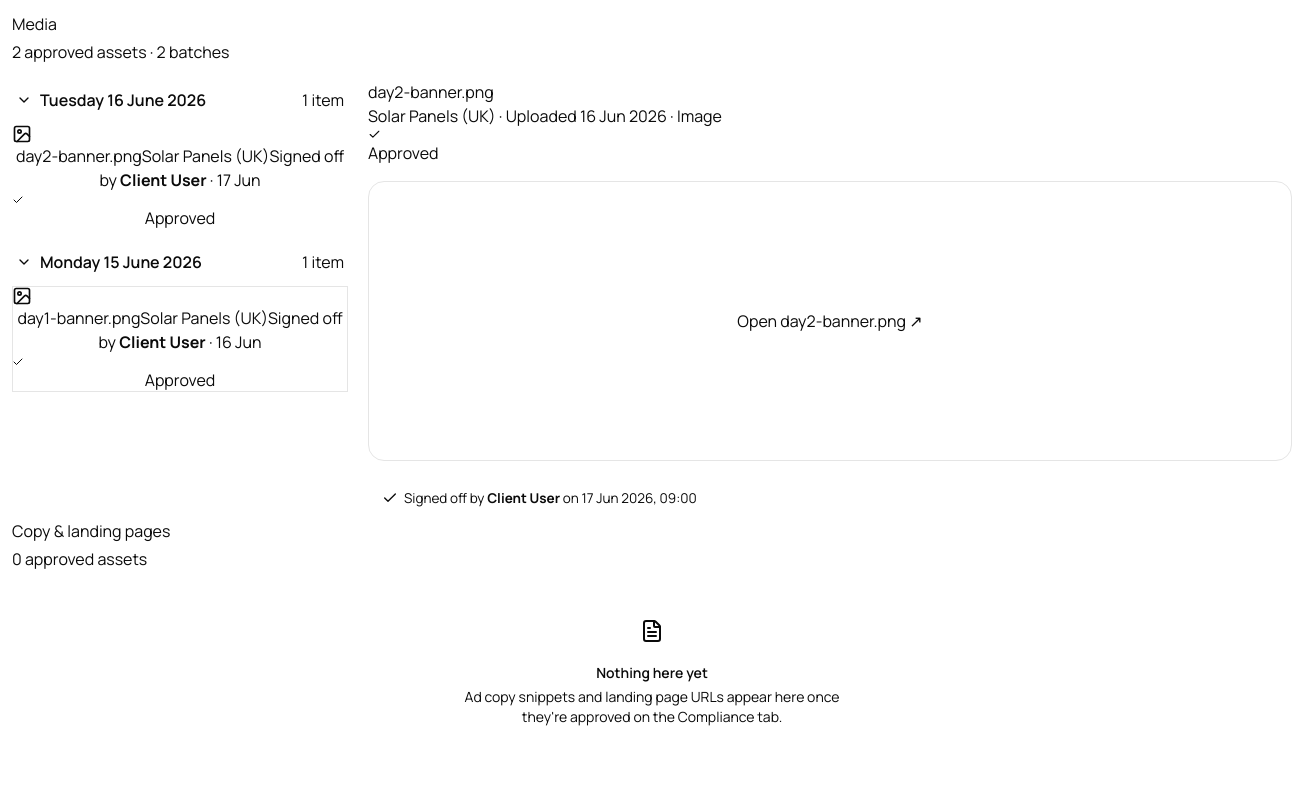
Test case: PortalCreativesPage — dated batches › collapses a batch when its header is clicked
Expected: the text "day1-banner.png" is shown, [17,307,140,329]
Click the text "Monday 15 June 2026".
click(121, 262)  # box [40,250,202,274]
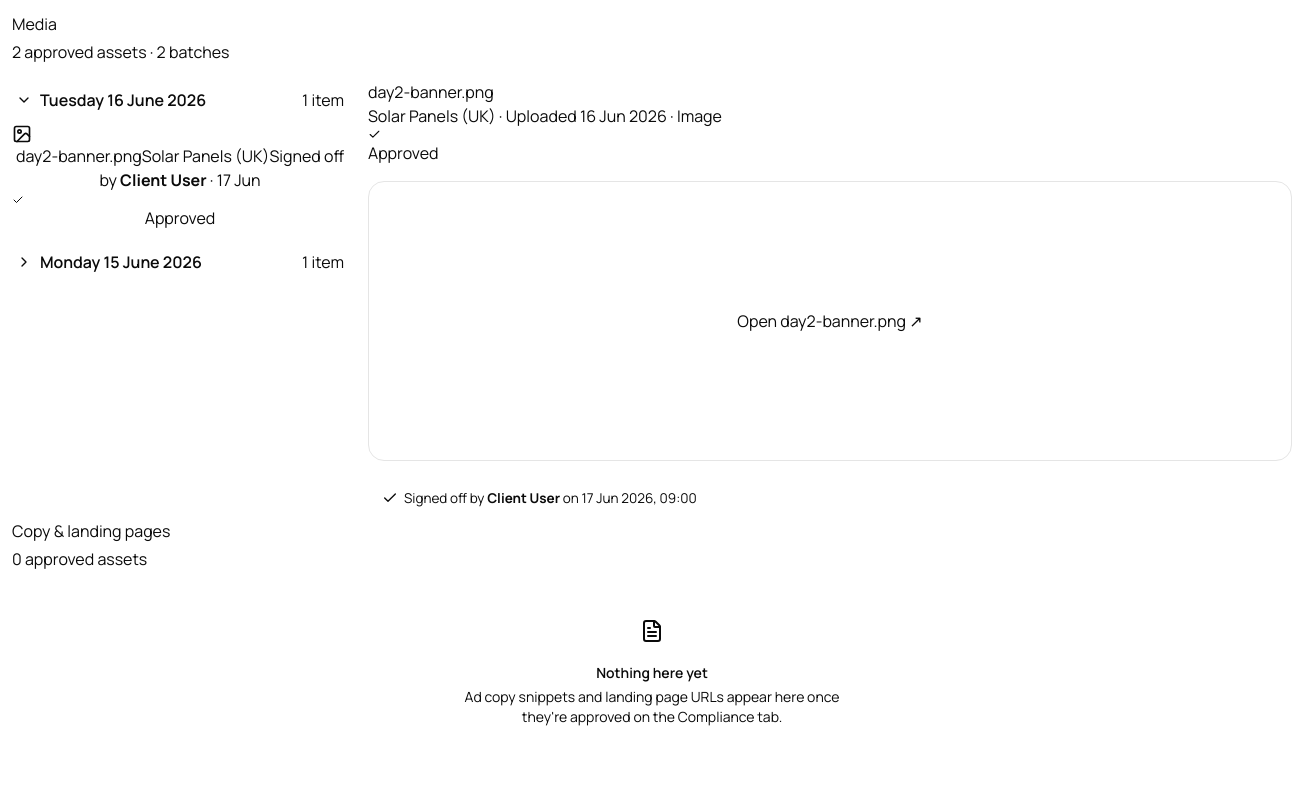
Expected: the text "day2-banner.png" is shown, [16,145,142,167]
Expected: the button "day1-banner.png" is gone
